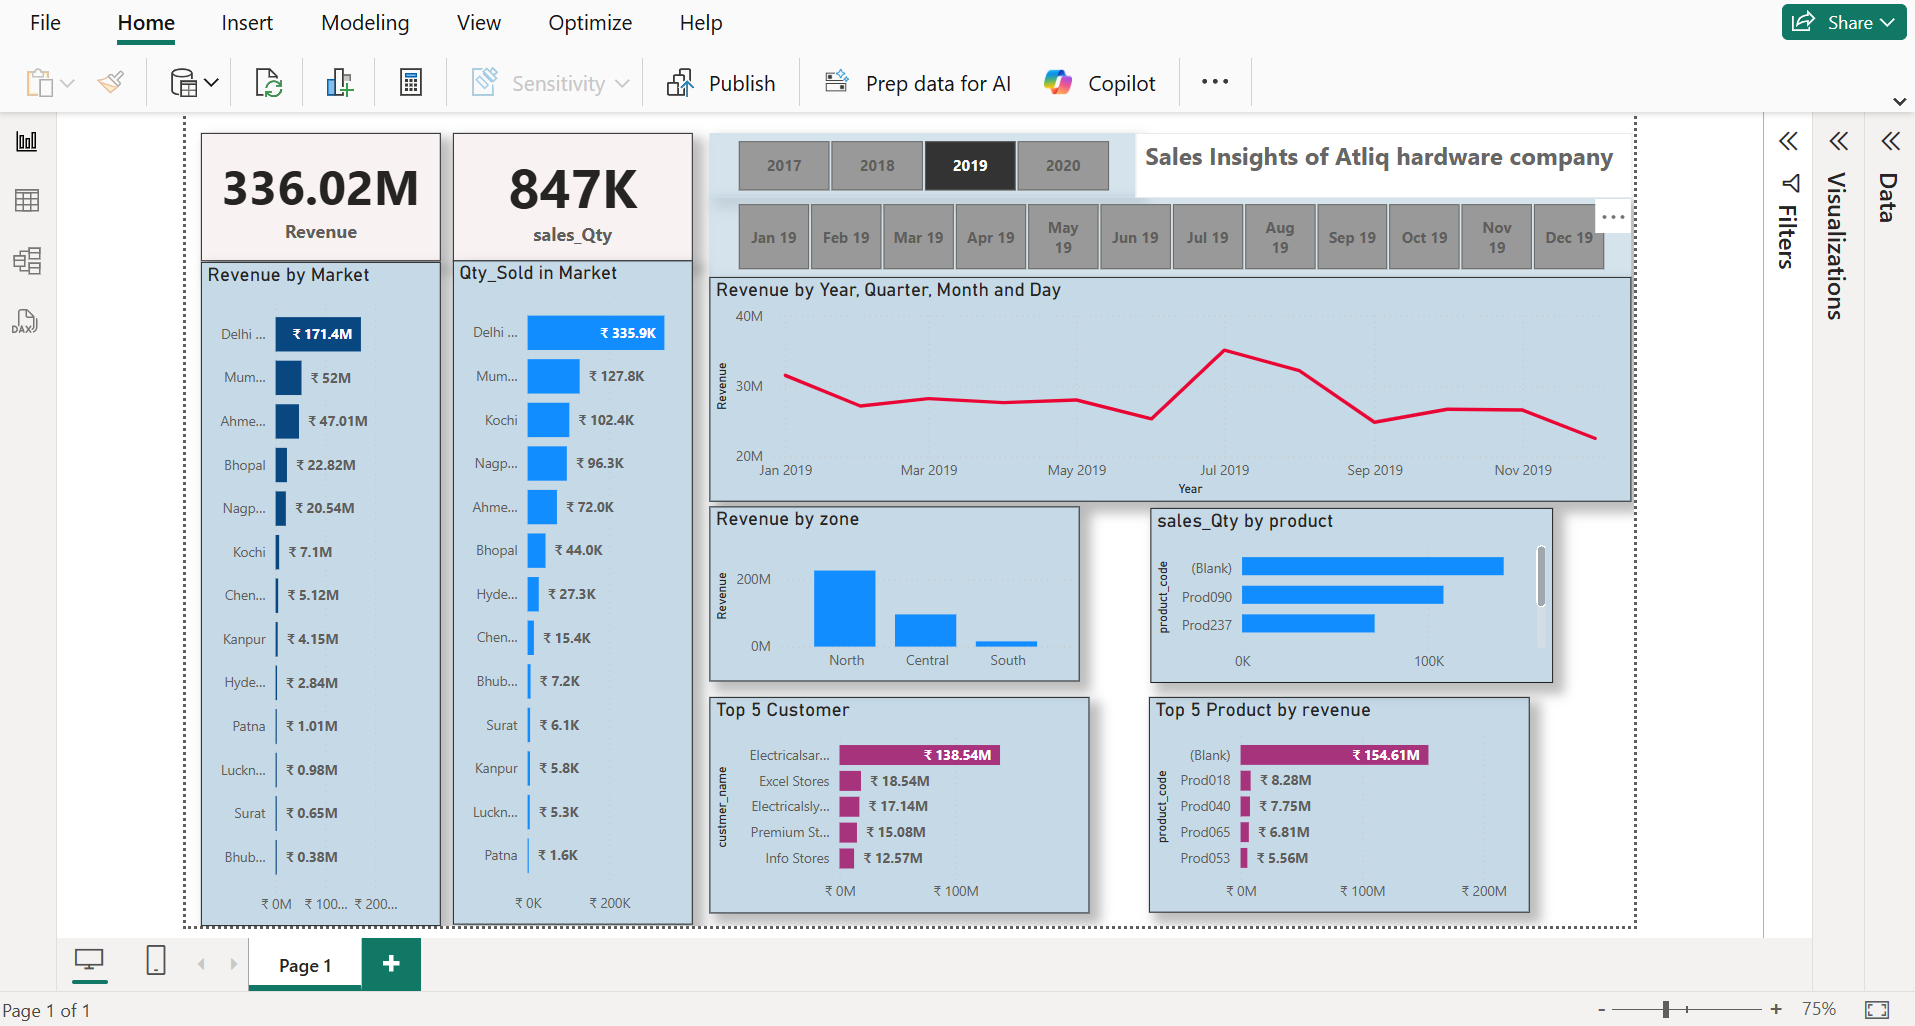

The page's visual inventory and layout, read from the dashboard file:
{"tool":"powerbi","page":{"name":"Page 1","canvas":[1280,720],"ordinal":0},"visuals":[{"type":"card","fields":{"Values":["BaseMeasure.Revenue"]},"box":[13.6,18.2,212,113.6],"z":0},{"type":"card","fields":{"Values":["BaseMeasure.sales_Qty"]},"box":[236.2,18.2,212,113.6],"z":1000},{"type":"clusteredBarChart","title":"Revenue by Market","fields":{"Y":["BaseMeasure.Revenue"],"Category":["sales markets.markets_name"]},"box":[13.2,133,211.9,587.5],"z":2000},{"type":"slicer","fields":{"Values":["sales date.year"]},"box":[463.3,18.2,377,57.5],"z":3000},{"type":"slicer","fields":{"Values":["sales date.cy_date"]},"box":[463.3,74.5,815.5,71.6],"z":4000},{"type":"clusteredBarChart","title":"Qty_Sold in Market","fields":{"Y":["BaseMeasure.sales_Qty"],"Category":["sales markets.markets_name"]},"box":[236.2,131.7,212,587.5],"z":5000},{"type":"clusteredBarChart","title":"Top 5 Customer","fields":{"Y":["BaseMeasure.Revenue"],"Category":["sales customers.custmer_name"]},"box":[463.3,517.4,336.1,191.5],"z":6000},{"type":"lineChart","fields":{"Category":["sales date.cy_date.Variation.Date Hierarchy.Year","sales date.cy_date.Variation.Date Hierarchy.Quarter","sales date.cy_date.Variation.Date Hierarchy.Month","sales date.cy_date.Variation.Date Hierarchy.Day"],"Y":["BaseMeasure.Revenue"]},"box":[463.3,146.1,815.5,198.8],"z":7000},{"type":"clusteredColumnChart","fields":{"Category":["sales markets.zone"],"Y":["BaseMeasure.Revenue"]},"box":[463.3,349.3,327.4,154.9],"z":8000},{"type":"textbox","box":[840.4,18.2,439.1,57.5],"z":9000},{"type":"clusteredBarChart","title":"Top 5 Product by revenue","fields":{"Y":["BaseMeasure.Revenue"],"Category":["sales products.product_code"]},"box":[852.3,517.8,336.4,190.9],"z":10000},{"type":"clusteredBarChart","title":"sales_Qty by product","fields":{"Category":["sales products.product_code"],"Y":["BaseMeasure.sales_Qty"]},"box":[852.5,349.8,355.8,154.4],"z":10001}]}

Visuals, with their boxes on the page's 1280x720 design canvas (x1, y1, x2, y2). These are canvas units, not pixel positions in the 1915x1026 screenshot, which may show the page scaled, cropped or inside an application window:
card - BaseMeasure.Revenue: <box>14,18,226,132</box>
card - BaseMeasure.sales_Qty: <box>236,18,448,132</box>
"Revenue by Market" clusteredBarChart: <box>13,133,225,720</box>
slicer - sales date.year: <box>463,18,840,76</box>
slicer - sales date.cy_date: <box>463,74,1279,146</box>
"Qty_Sold in Market" clusteredBarChart: <box>236,132,448,719</box>
"Top 5 Customer" clusteredBarChart: <box>463,517,799,709</box>
lineChart - sales date.cy_date.Variation.Date Hierarchy.Year x sales date.cy_date.Variation.Date Hierarchy.Quarter: <box>463,146,1279,345</box>
clusteredColumnChart - sales markets.zone x BaseMeasure.Revenue: <box>463,349,791,504</box>
textbox: <box>840,18,1280,76</box>
"Top 5 Product by revenue" clusteredBarChart: <box>852,518,1189,709</box>
"sales_Qty by product" clusteredBarChart: <box>852,350,1208,504</box>
